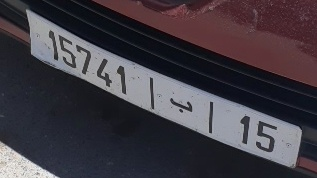1: (240, 111, 252, 147), (116, 62, 128, 96), (45, 30, 58, 61)
4: (94, 56, 112, 89)
5: (256, 121, 280, 154), (59, 34, 75, 69)
7: (76, 41, 93, 77)
b: (168, 91, 195, 119)
